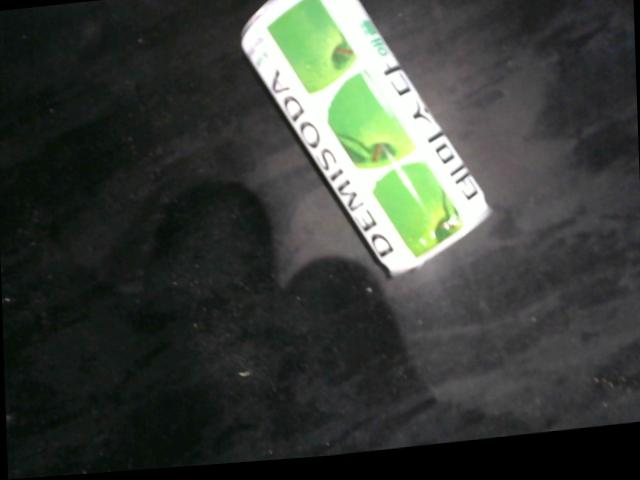can: (238, 0, 496, 287)
